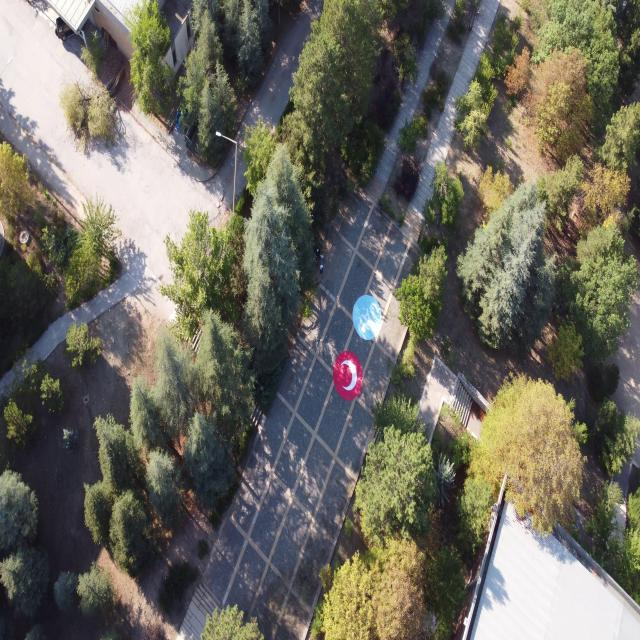vehicle: (333, 352, 363, 401), (352, 295, 382, 340), (316, 248, 321, 258), (314, 256, 318, 266), (320, 262, 323, 274)
